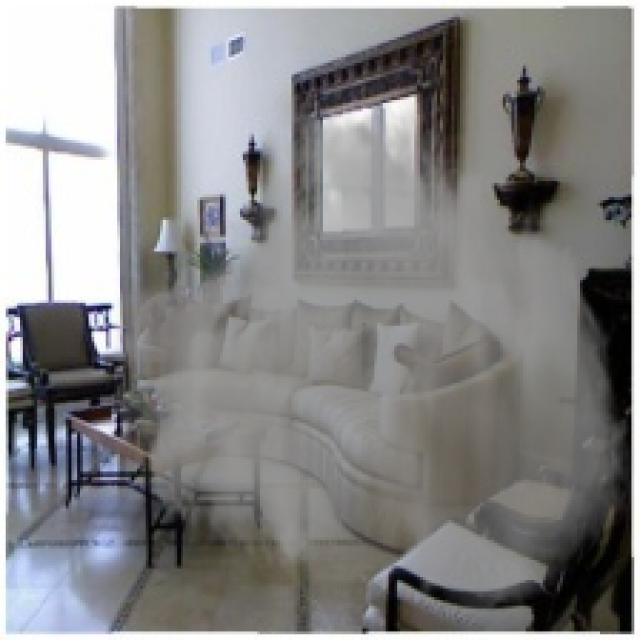smoke: (109, 83, 637, 617)
